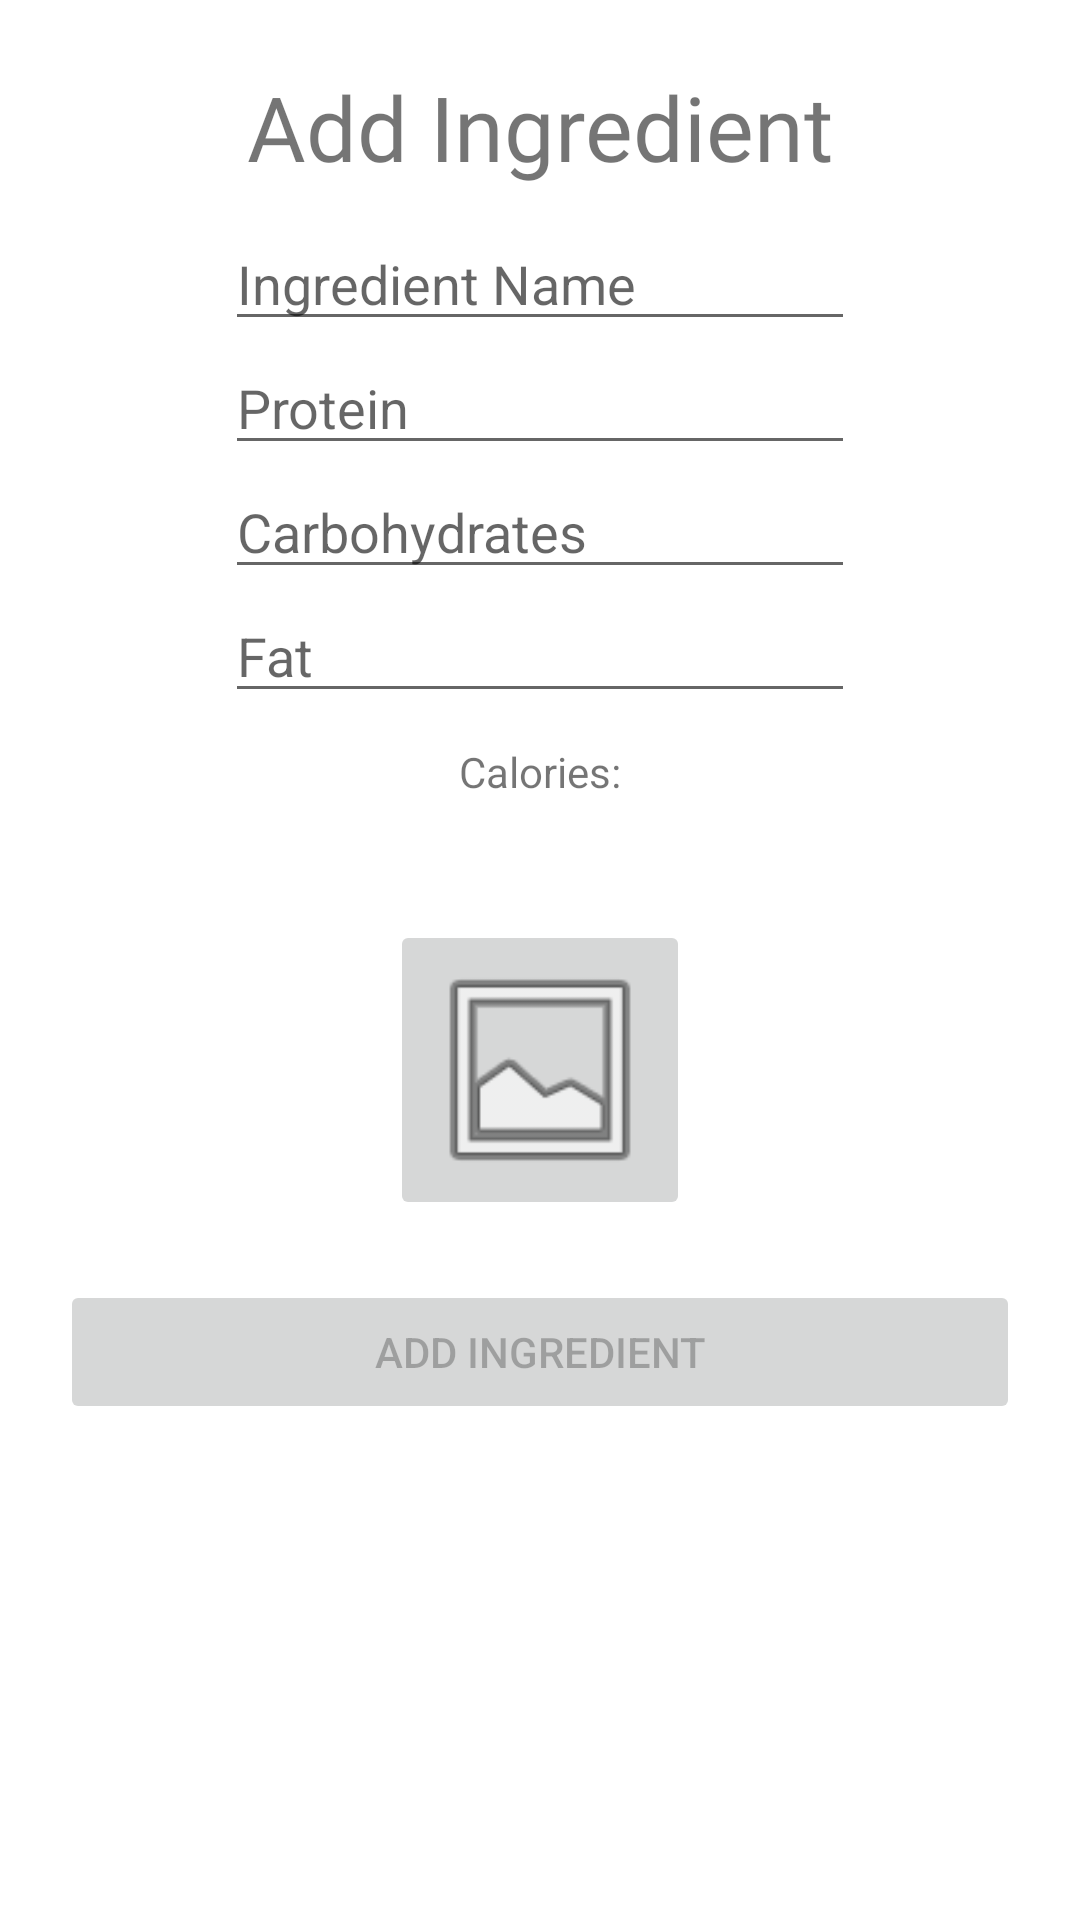

Where to tap for icons on this 1080 × 1920 app screen, as (x=x, y=y):
gallery: (x=540, y=1070)
